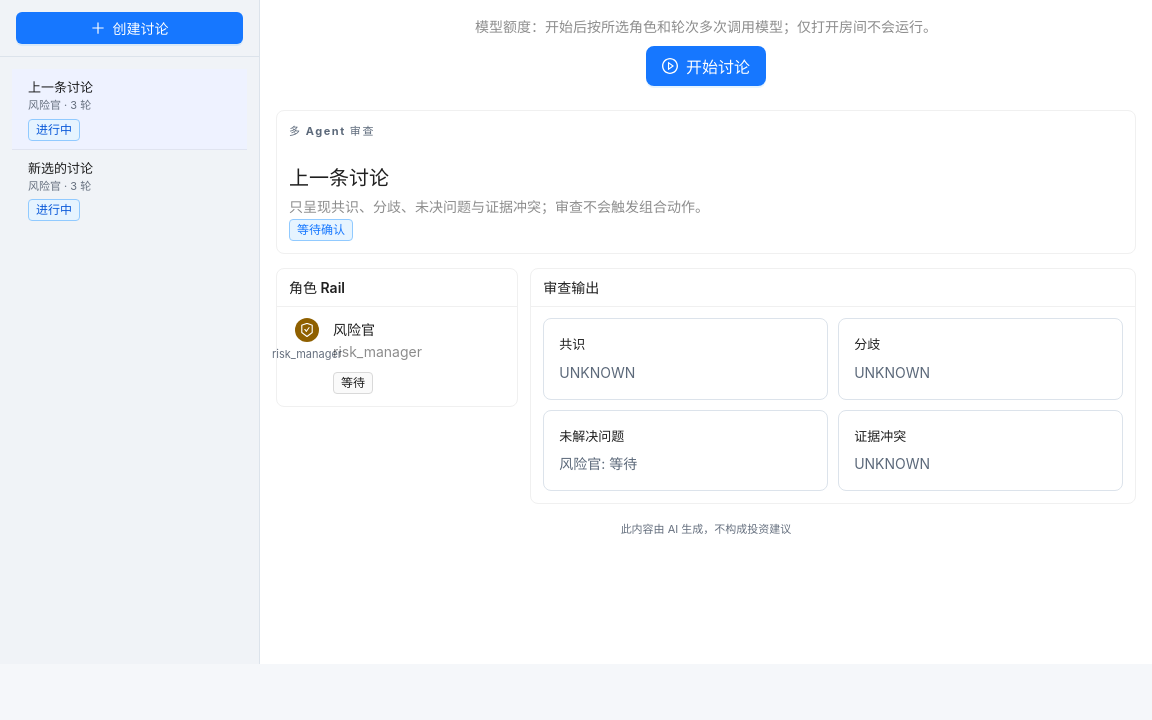
VS29 Discussion 详情：切房间失败不串台 › 切房间失败 ⇒ 右栏显示失败态 + 重试，绝不显示上一条内容
The image size is (1152, 720).
Expected: the heading "上一条讨论" is shown, [289,166,389,190]
// 切到 43（该请求失败）。
Step 1. Click the text "新选的讨论" → (60, 168), box [28,158,93,178]
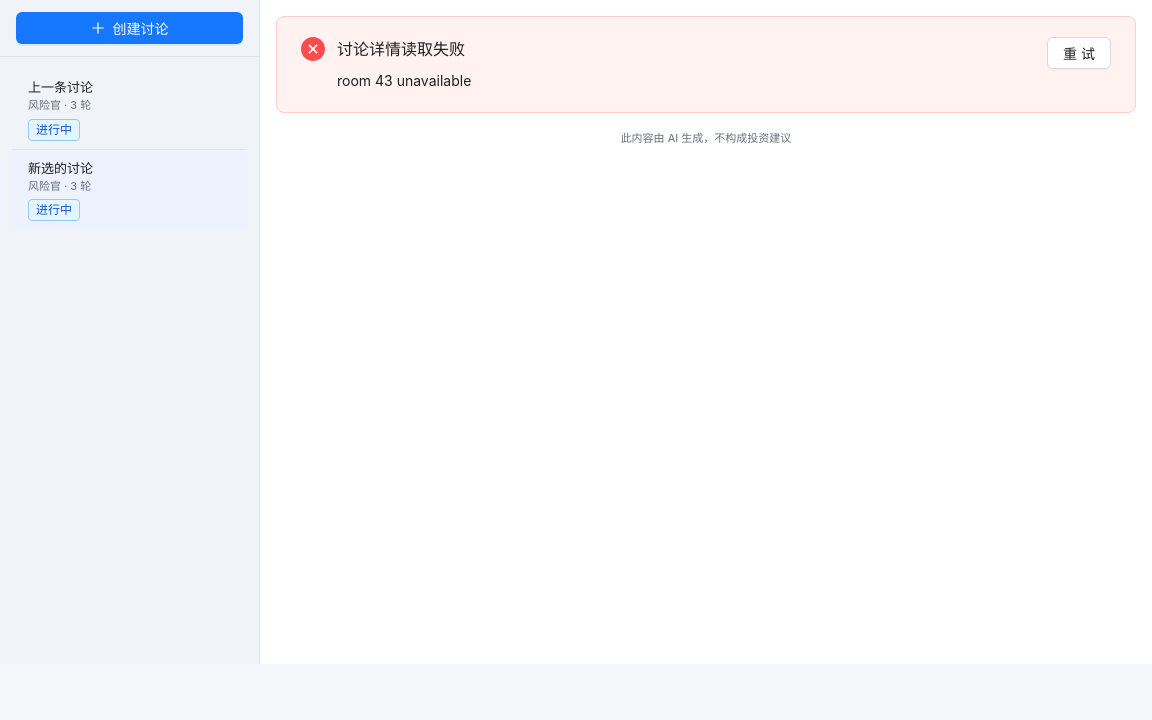
Result: the text "讨论详情读取失败" is shown at [337,39,465,59]
Result: the text "room 43 unavailable" is shown at [337,72,471,89]
Result: the button "重 试" is shown at [1047,37,1111,69]
